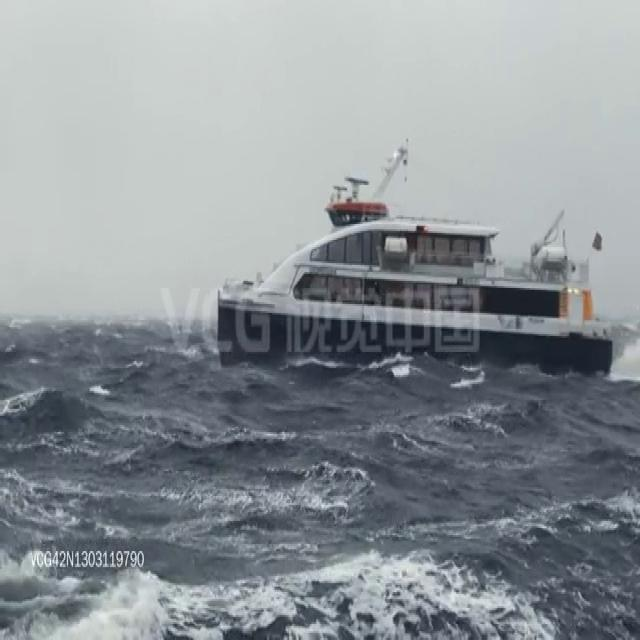passenger ship: (218, 173, 610, 374)
